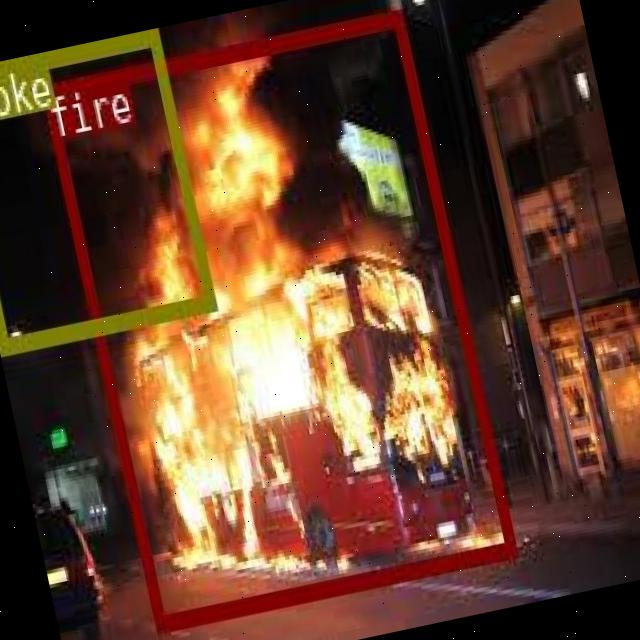fire: (40, 7, 514, 631)
smoke: (0, 28, 213, 353)
